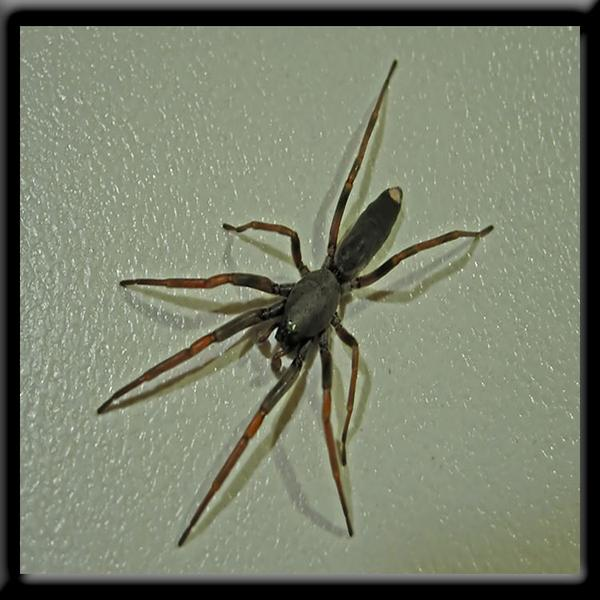White-Tailed Spider: (138, 87, 474, 533)
